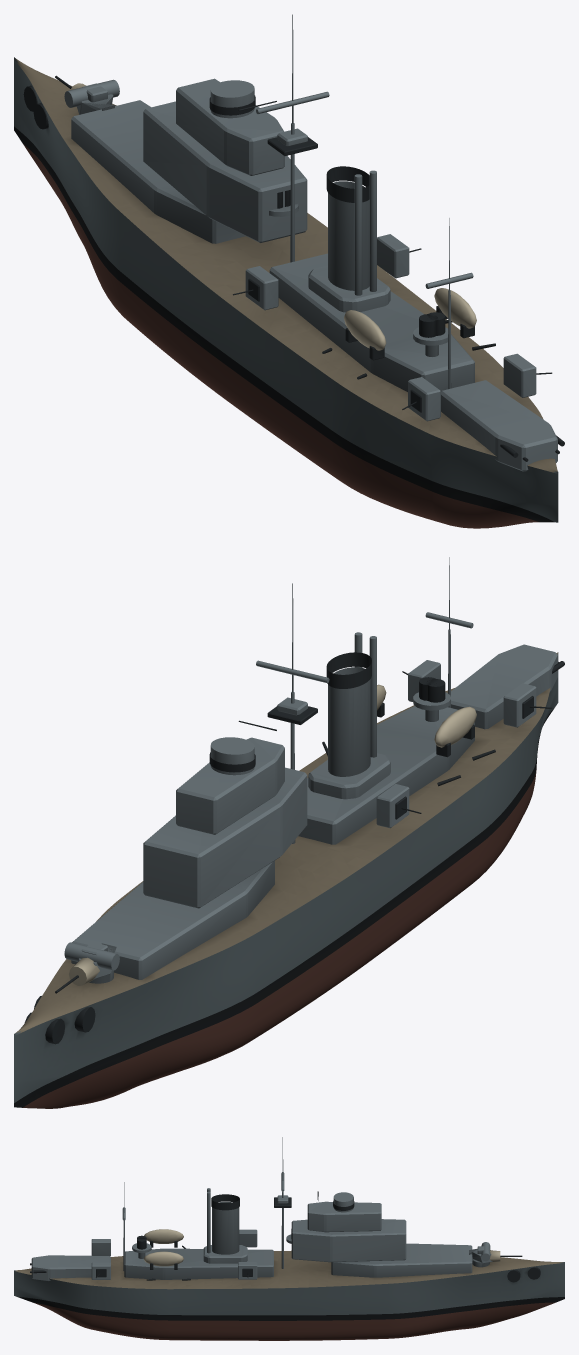
Rendered from hms-gentian.glb.
The picture shows the model from 3 angles, top to bottom: view 1: azimuth 30°, elevation 25°; view 2: azimuth 150°, elevation 25°; view 3: azimuth 270°, elevation 25°; orthographic projection. The views are drawn at different scales.
Parts seen in each view (by area): view 1: hms-gentian; view 2: hms-gentian; view 3: hms-gentian.
Boxes of the visible parts, box(x1,y1,x2,y2) form: hms-gentian: box(14, 14, 564, 528); hms-gentian: box(14, 557, 564, 1108); hms-gentian: box(14, 1137, 564, 1340).
Size of the model in its own units: 12.47 by 23.85 by 62.5.
